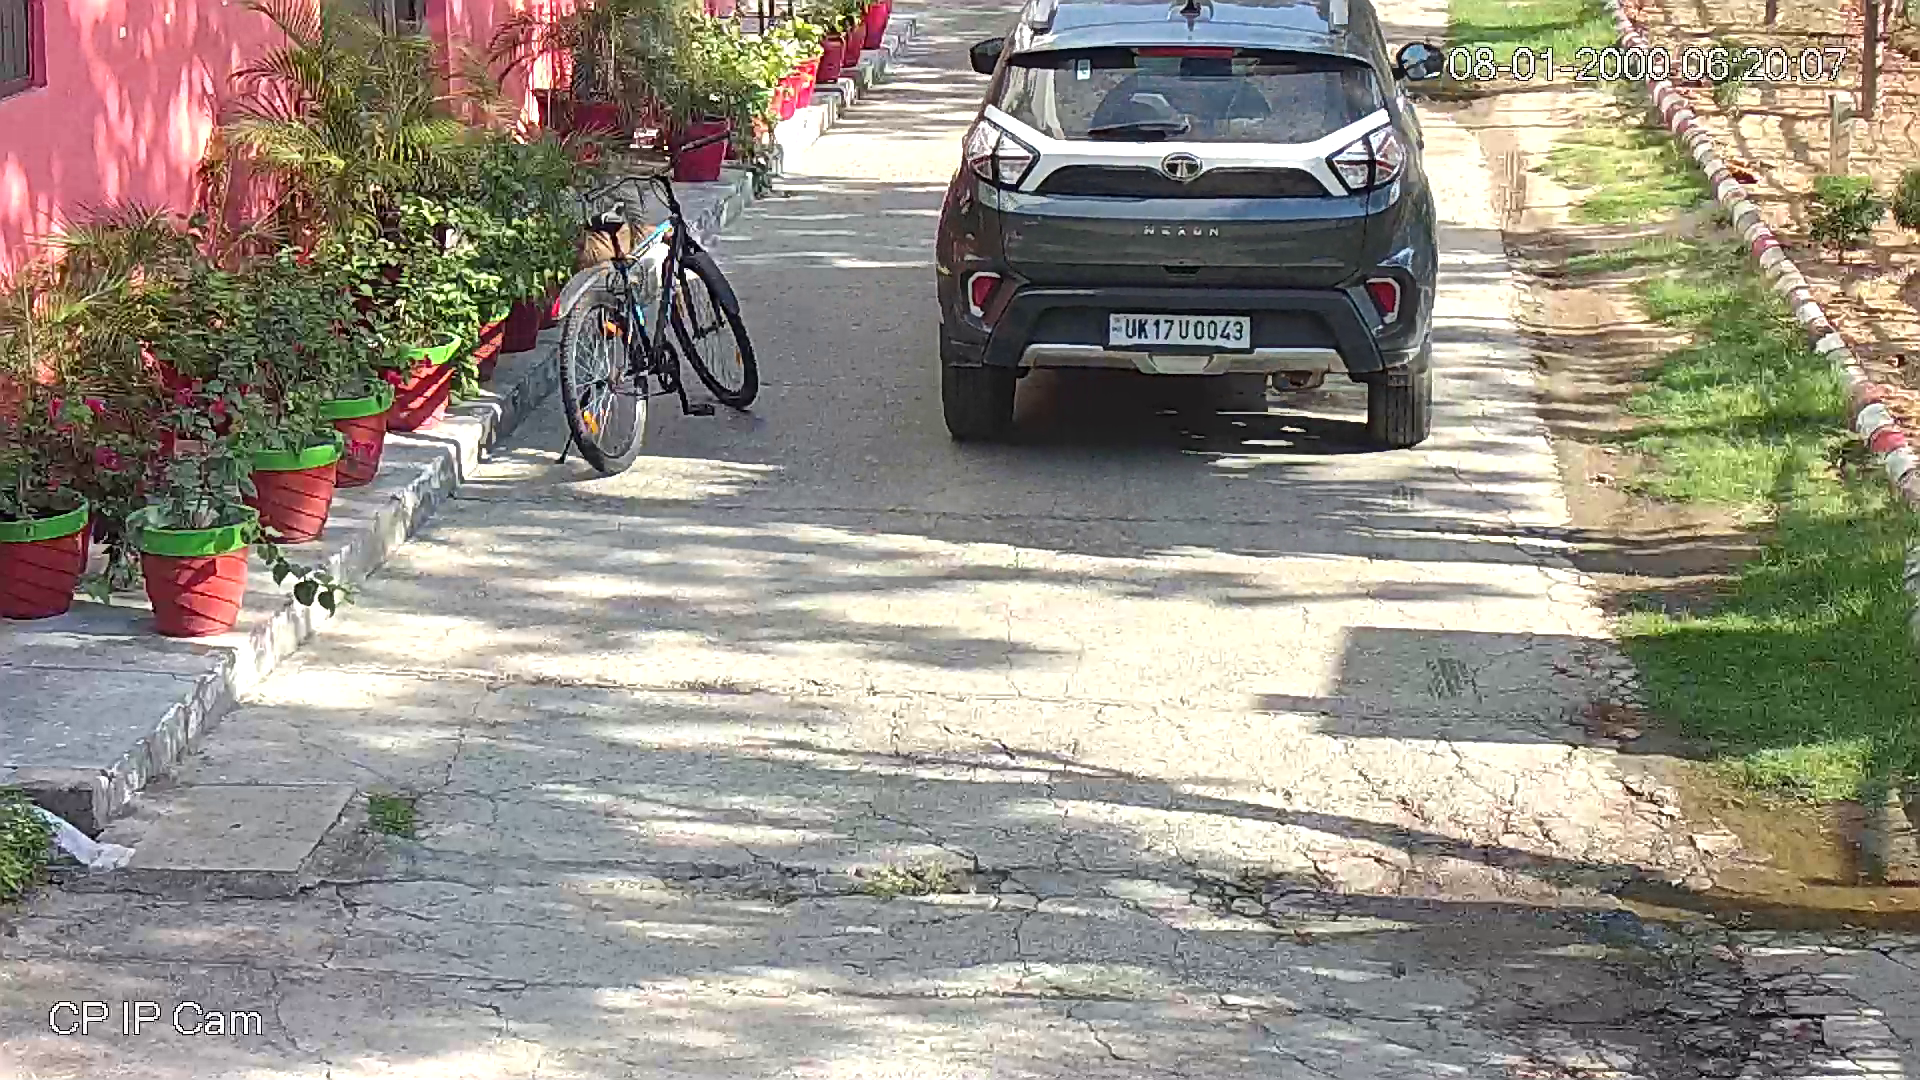plate: (1099, 305, 1256, 352)
